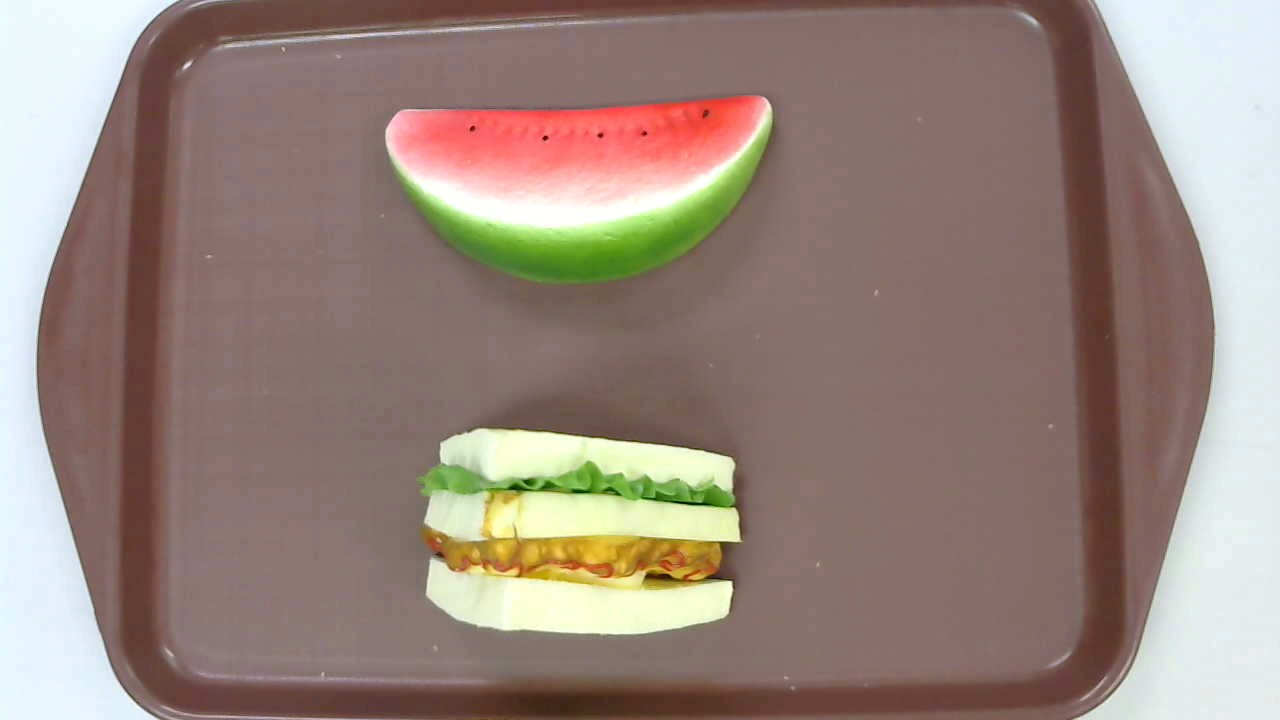sandwich: (416, 428, 746, 635)
water melon: (385, 94, 774, 284)
